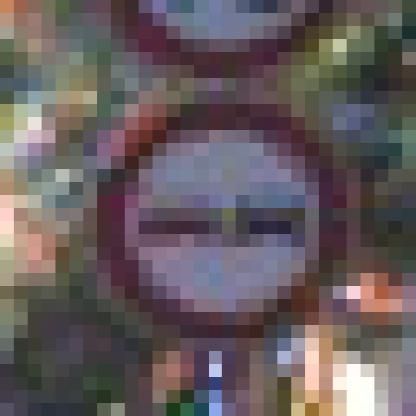No Overtaking: (84, 79, 348, 339)
